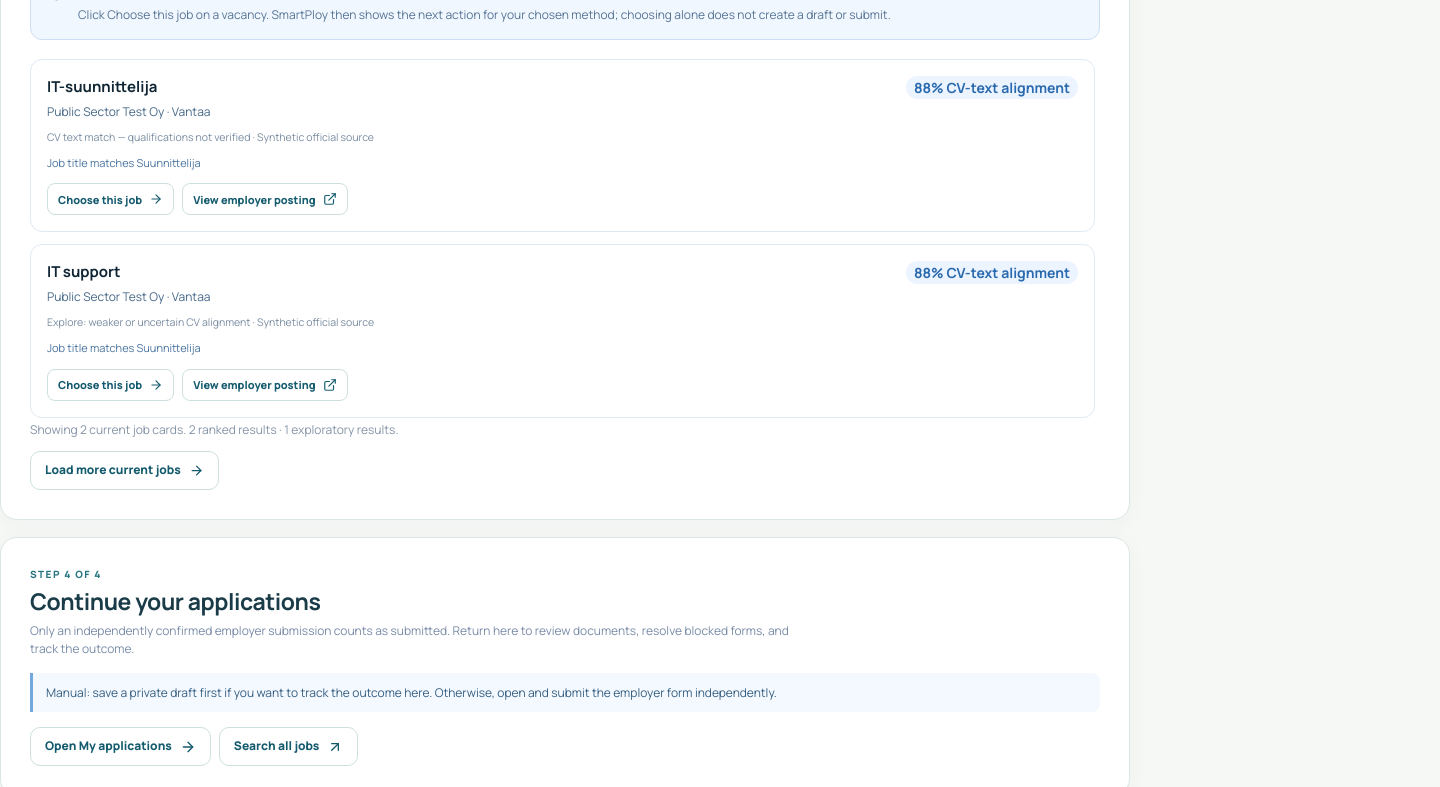
Test case: SP21 application journey › loads later ranked vacancies instead of hiding everything beyond the first page
(page scrolled)
Expected: the heading "IT-suunnittelija" is shown, [47, 76, 158, 97]
Click the button "Load more current jobs" at x=124, y=470, box [30, 451, 219, 490]
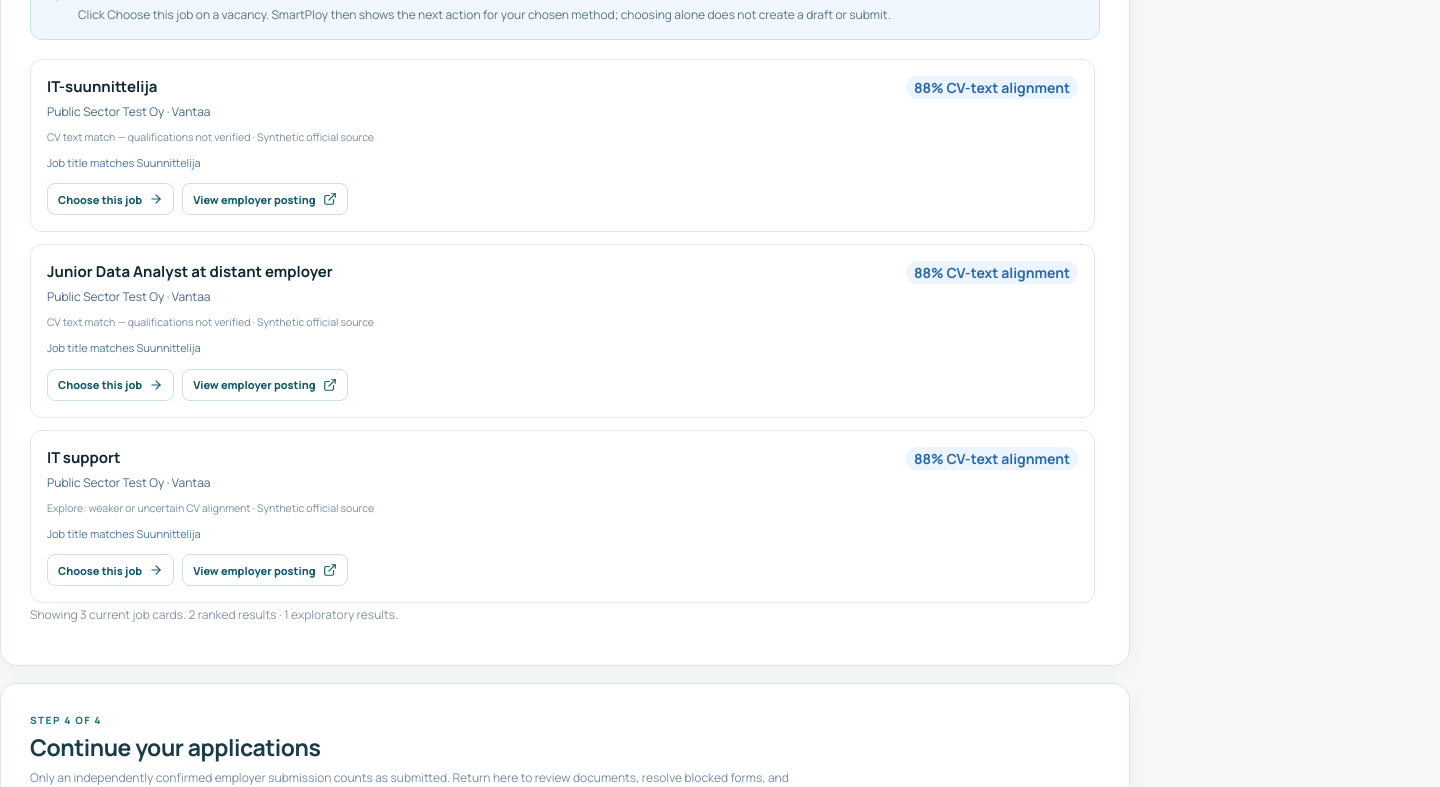
Expected: the button "save application draft" is not shown
Expected: the heading "Junior Data Analyst at distant employer" is shown, [47, 261, 374, 282]
Click the button "Choose this job" below "IT support" at x=111, y=570, box [47, 554, 174, 586]
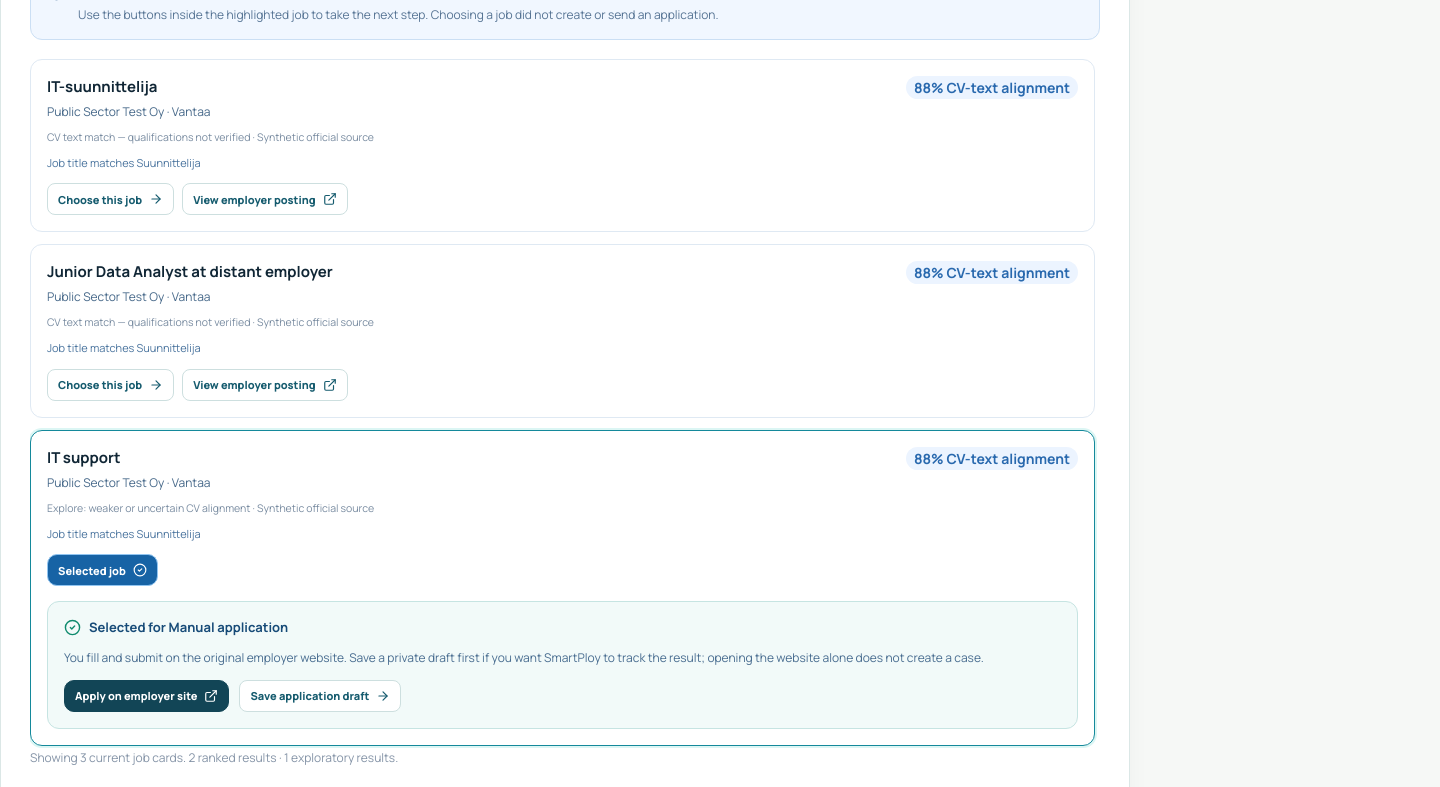
Expected: the button "Save application draft" is shown, [240, 680, 401, 712]
